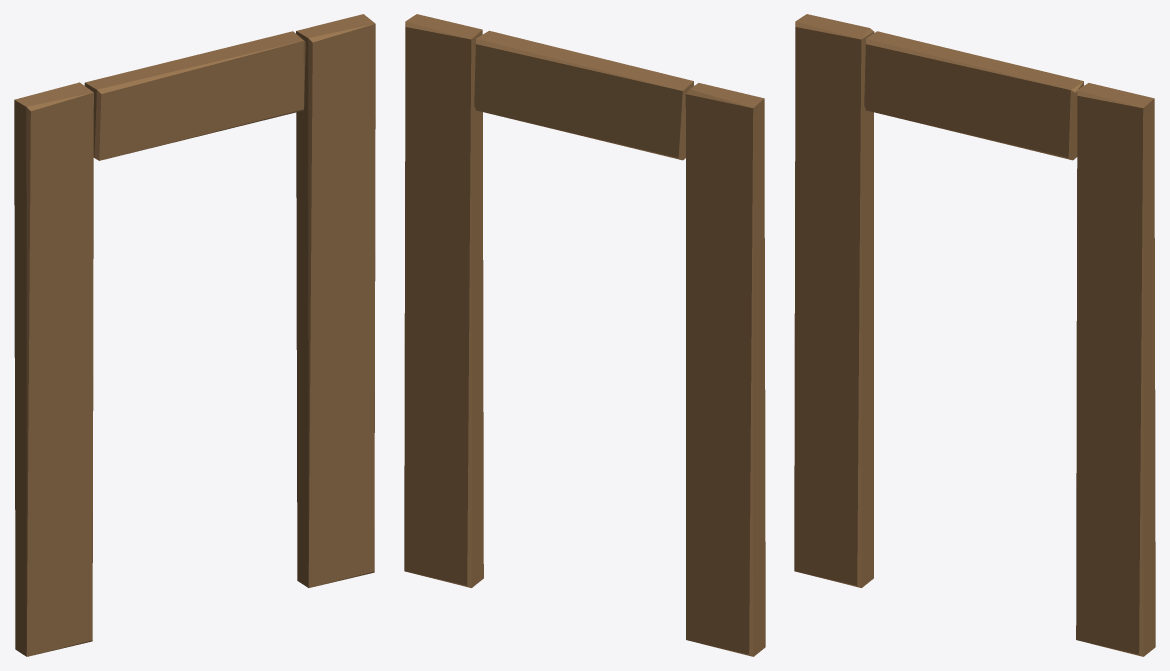
Rendered from harbor-doorway.lod1.glb.
The picture shows the model from 3 angles, left to right: view 1: azimuth 30°, elevation 25°; view 2: azimuth 150°, elevation 25°; view 3: azimuth 330°, elevation 25°; orthographic projection.
Parts seen in each view (by area): view 1: harbor-doorway__body; view 2: harbor-doorway__body; view 3: harbor-doorway__body.
Boxes of the visible parts, x1,y1,x2,y2 form: harbor-doorway__body: [14, 14, 375, 656]; harbor-doorway__body: [404, 14, 765, 656]; harbor-doorway__body: [794, 14, 1155, 656].
Size of the model in its own units: 1.98 by 2.99 by 0.15.
